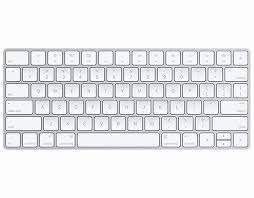keyboard: (5, 29, 250, 194)
